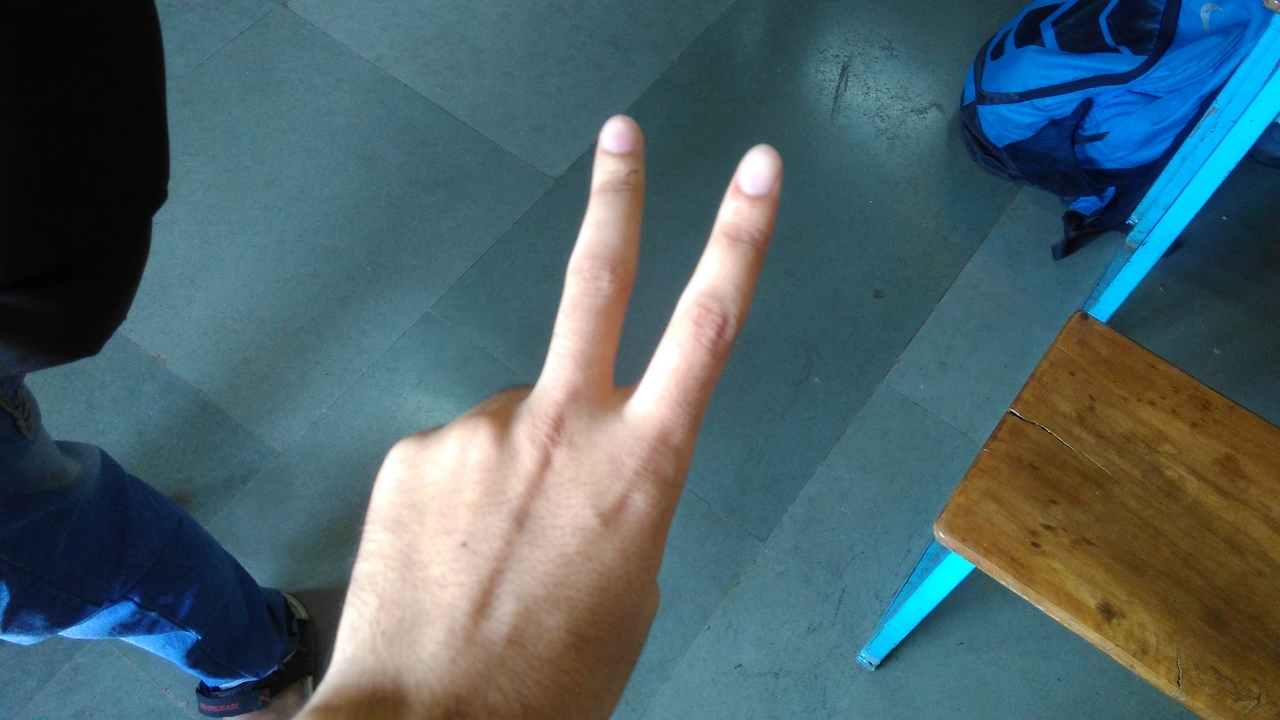fingertip: (726, 134, 792, 198), (588, 108, 650, 166)
